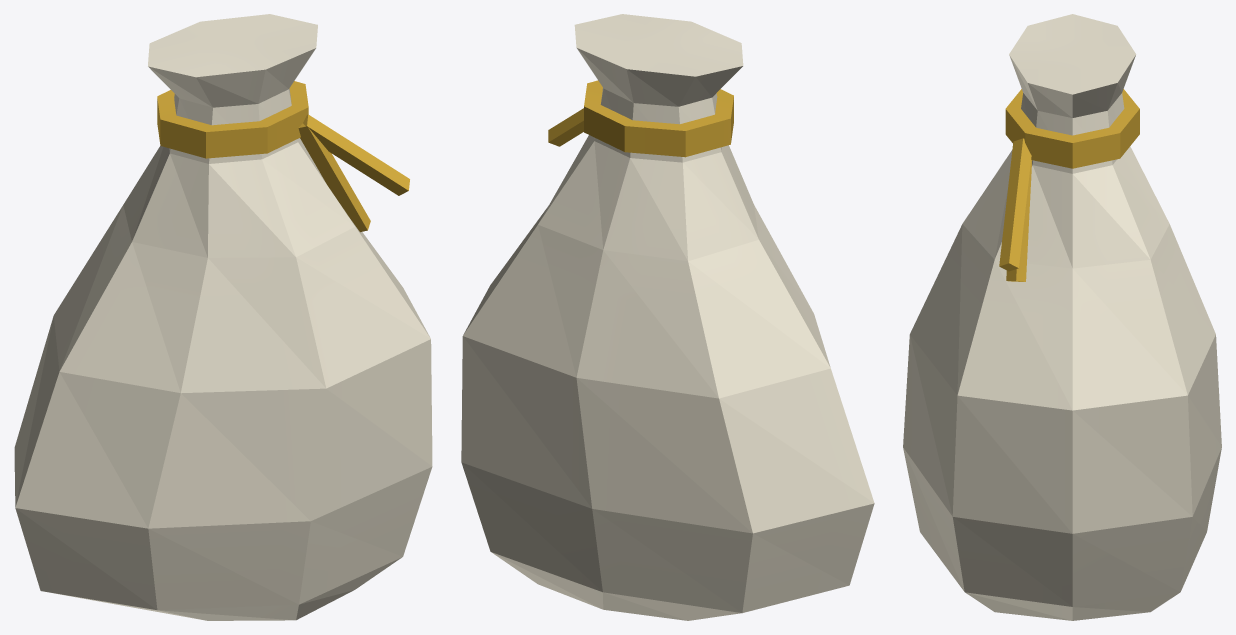
The model's file is seed_bag_full.obj.
3 renders of one model, left to right at view 1: azimuth 30°, elevation 25°; view 2: azimuth 150°, elevation 25°; view 3: azimuth 270°, elevation 25°, orthographic. The views are drawn at different scales.
Visible parts, largest first — view 1: folded_leather_sack_belly_and_gathered_neck, cord_cinch_and_short_tied_ends; view 2: folded_leather_sack_belly_and_gathered_neck, cord_cinch_and_short_tied_ends; view 3: folded_leather_sack_belly_and_gathered_neck, cord_cinch_and_short_tied_ends.
Boxes of the visible parts, <box> form: folded_leather_sack_belly_and_gathered_neck: <box>14,14,432,620</box>; cord_cinch_and_short_tied_ends: <box>157,81,409,232</box>; folded_leather_sack_belly_and_gathered_neck: <box>461,14,874,620</box>; cord_cinch_and_short_tied_ends: <box>548,80,733,157</box>; folded_leather_sack_belly_and_gathered_neck: <box>903,14,1221,620</box>; cord_cinch_and_short_tied_ends: <box>999,89,1139,281</box>.
Bounding box in the file's own units: 0.3877 × 0.5062 × 0.282.
